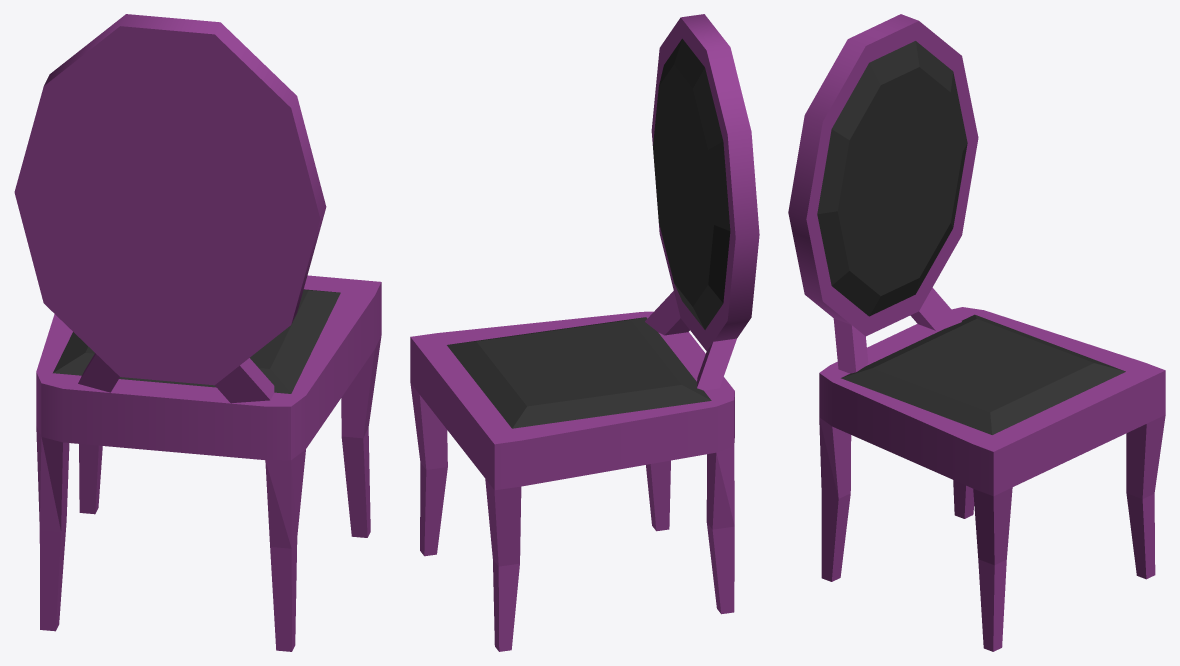
Rendered from chaises.FBX.
3 views of the same model, side by side, from view 1: azimuth 30°, elevation 25°; view 2: azimuth 150°, elevation 25°; view 3: azimuth 270°, elevation 25° (orthographic). The views are drawn at different scales.
Visible parts, largest first — view 1: chaise018; view 2: chaise018; view 3: chaise018.
Boxes of the visible parts, <box> form: chaise018: <box>14,14,381,651</box>; chaise018: <box>410,14,759,651</box>; chaise018: <box>788,14,1165,651</box>.
Bounding box in the file's own units: 68.01 × 104 × 69.37.
